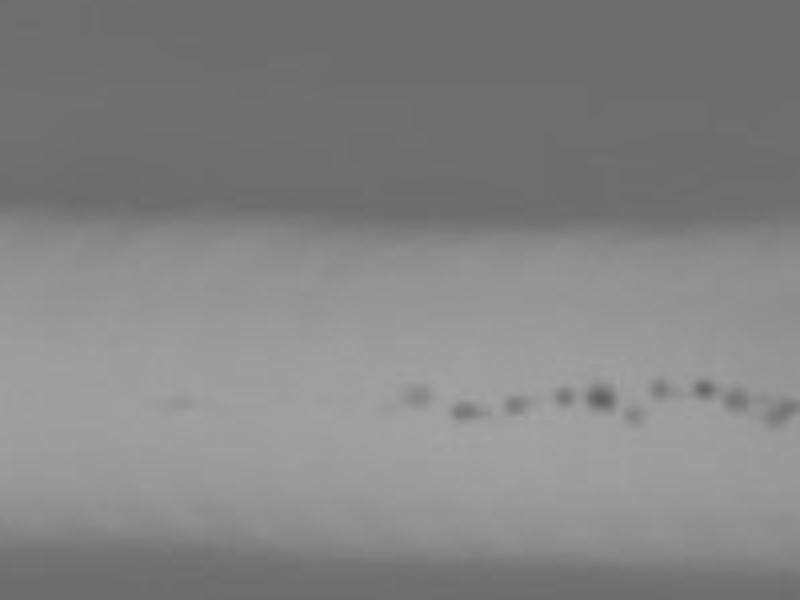defect: (396, 379, 436, 413), (766, 399, 798, 428), (450, 396, 484, 422), (588, 379, 617, 409), (723, 382, 749, 413), (649, 376, 674, 401), (694, 376, 718, 402), (164, 392, 196, 411), (554, 383, 575, 411), (506, 396, 532, 418), (624, 402, 647, 425), (375, 396, 395, 417), (751, 387, 767, 402)
